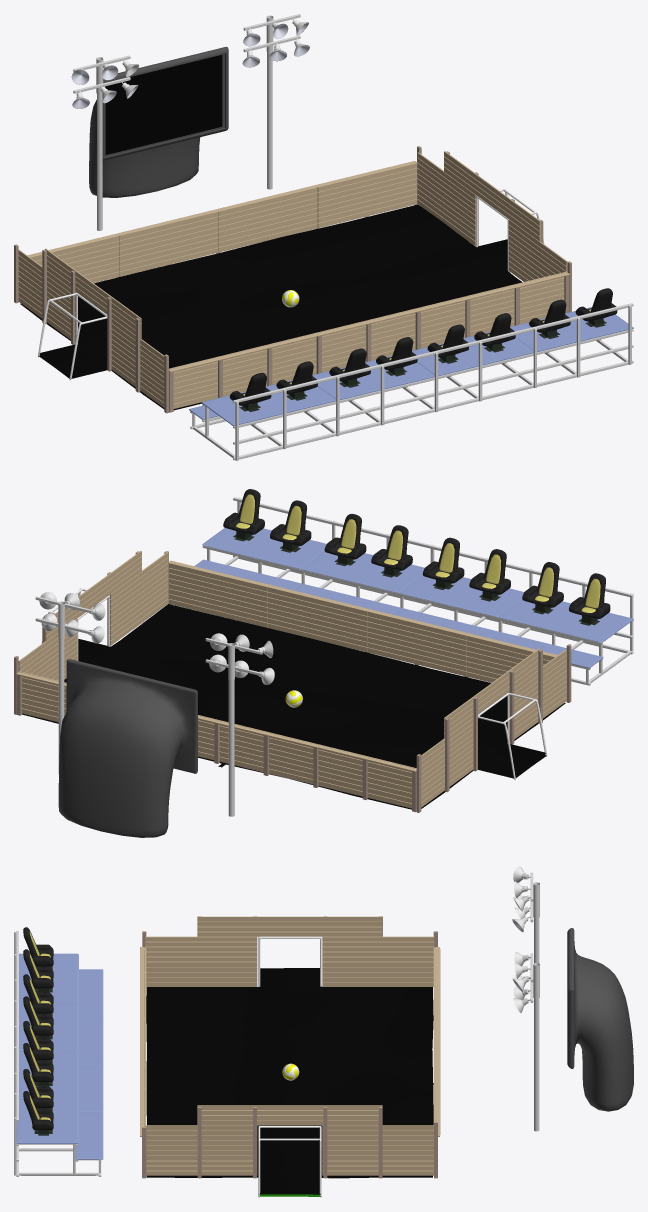
File: QuadraFut (1).fbx
3 views of the same model, one above another, from view 1: azimuth 30°, elevation 25°; view 2: azimuth 150°, elevation 25°; view 3: azimuth 270°, elevation 25° (orthographic). The views are drawn at different scales.
Parts seen in each view (by area): view 1: Plane.009, Telão, Estrura, Cube.237, Cube.240, Cube.238, Cube.239, Cube.171, Cube.170, Poste, Cylinder.013, Cube.267 (+9 smaller); view 2: Plane.009, Telão, Estrura, Cube.237, Cube.240, Cube.238, Cube.239, Cylinder.013, Cube.171, Cadeira.p, Cube.273, Cube.274 (+52 smaller); view 3: Plane.009, Telão, Cube.240, Estrura, Cube.237, Cube.239, Cube.238, Cube.232, Cube.236, Cube.235, Cube.234, Cube.159 (+61 smaller).
Part boxes in pixels (<box>): Plane.009: <box>39,204,522,376</box>; Telão: <box>89,46,228,197</box>; Estrura: <box>190,303,633,460</box>; Cube.237: <box>201,380,335,426</box>; Cube.240: <box>510,307,633,352</box>; Cube.238: <box>312,356,434,400</box>; Cube.239: <box>412,331,533,376</box>; Cube.171: <box>169,272,569,372</box>; Cube.170: <box>27,161,417,256</box>; Poste: <box>266,15,273,189</box>; Cylinder.013: <box>96,57,103,230</box>; Cube.267: <box>38,293,107,380</box>; Plane.009: <box>64,604,545,775</box>; Telão: <box>58,659,197,837</box>; Estrura: <box>202,497,633,685</box>; Cube.237: <box>498,599,633,642</box>; Cube.240: <box>202,528,326,568</box>; Cube.238: <box>400,576,524,617</box>; Cube.239: <box>301,551,424,593</box>; Cylinder.013: <box>228,643,234,816</box>; Cube.171: <box>168,560,557,656</box>; Cadeira.p: <box>569,573,610,618</box>; Cube.273: <box>324,514,366,559</box>; Cube.274: <box>422,537,464,583</box>; Plane.009: <box>146,968,433,1194</box>; Telão: <box>567,928,633,1111</box>; Cube.240: <box>16,1096,78,1143</box>; Estrura: <box>14,931,101,1176</box>; Cube.237: <box>19,953,78,1002</box>; Cube.239: <box>19,1049,78,1096</box>; Cube.238: <box>19,1002,78,1049</box>; Cube.232: <box>75,1112,103,1159</box>; Cube.236: <box>78,969,103,1018</box>; Cube.235: <box>78,1018,103,1065</box>; Cube.234: <box>78,1065,103,1111</box>; Cube.159: <box>197,931,382,936</box>.
Size of the model in its own units: 1936 by 701 by 2239.
